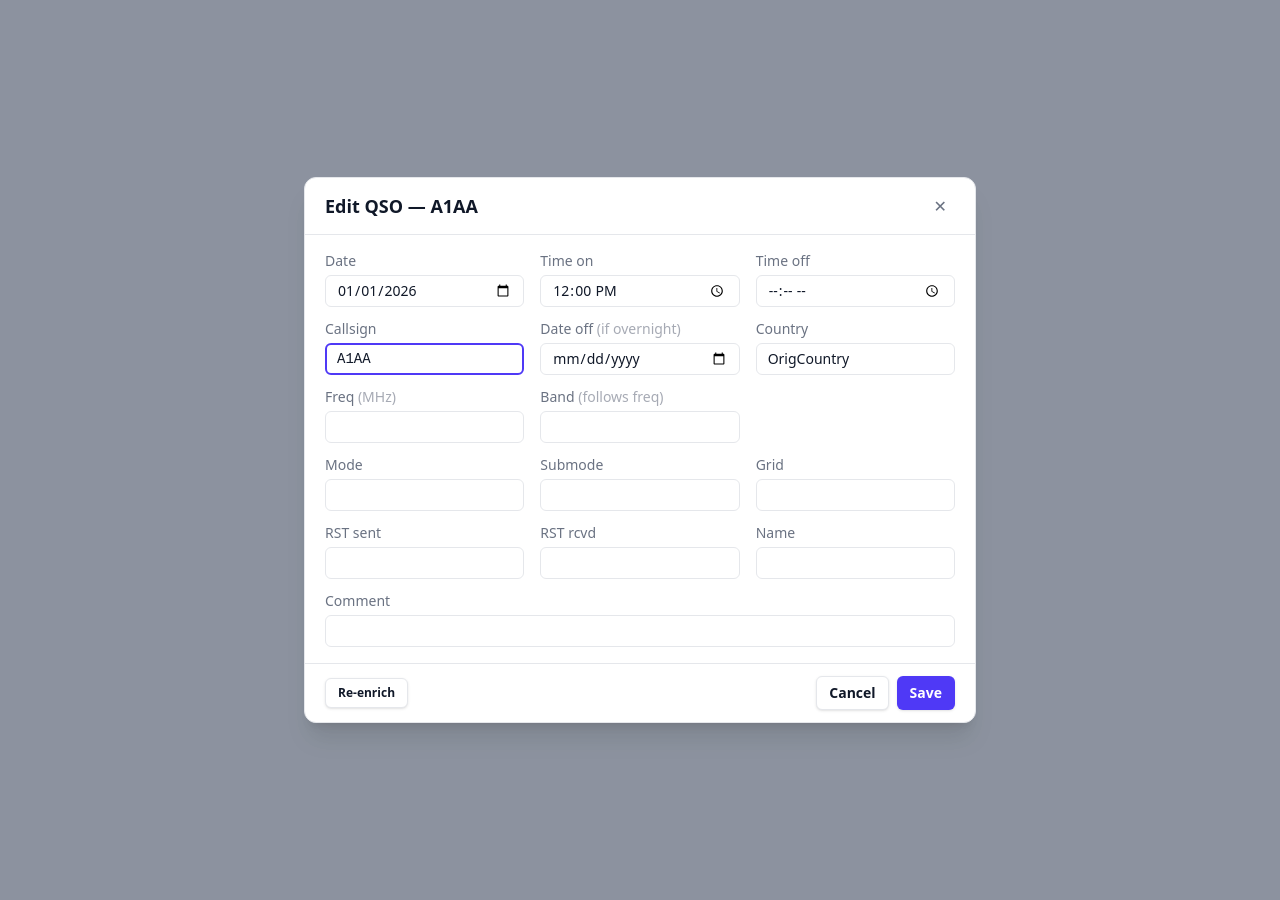
EditQsoModal re-enrichment generation safety (F-02) › retracts a lookup-written value on callsign change, but keeps an operator edit
The width and height of the screenshot is (1280, 900).
Click the button "Re-enrich" at (366,693), box x1=325 y1=678 x2=408 y2=708
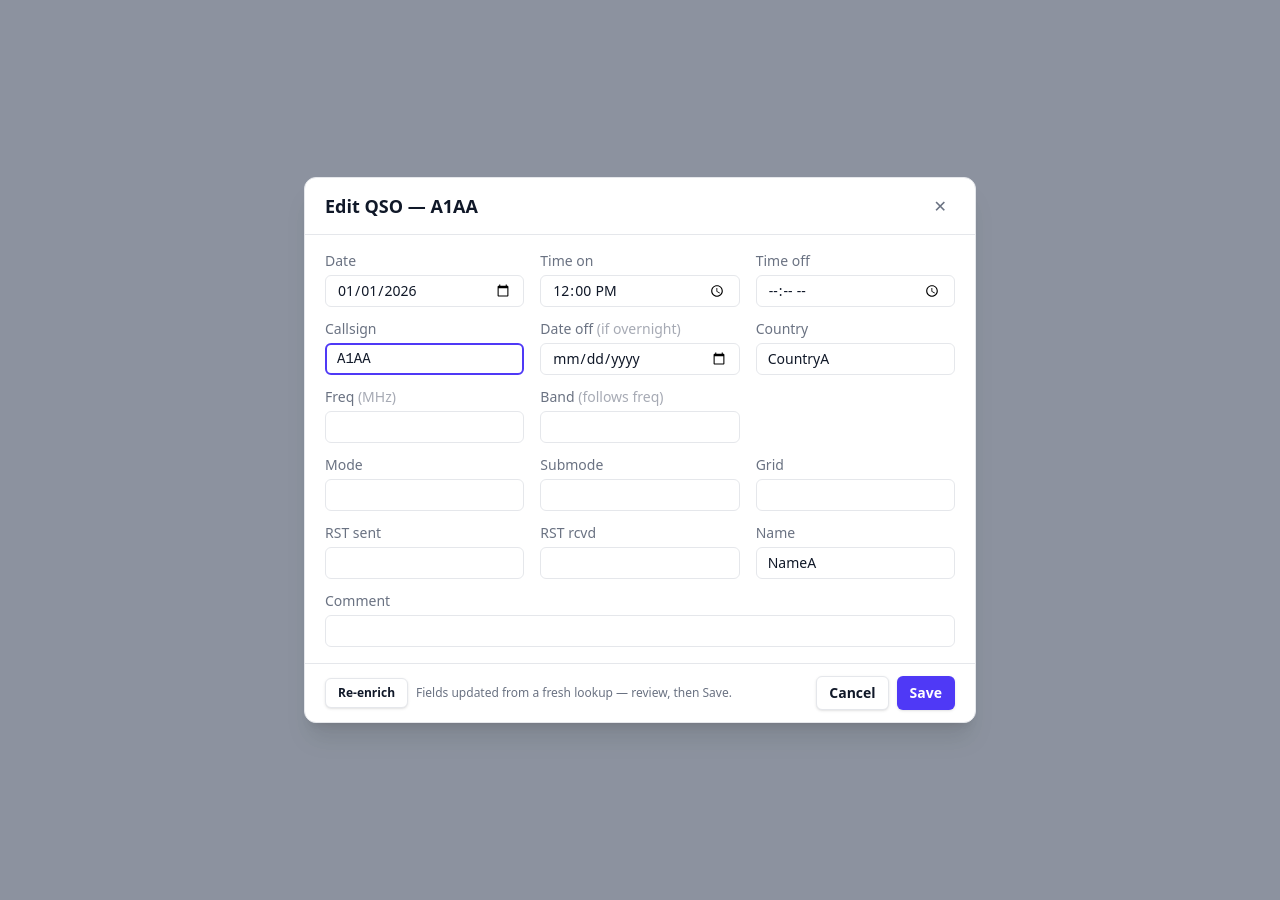
Expected: the field labelled "Country" holds "CountryA", x1=756 y1=343 x2=955 y2=375
Expected: the field labelled "Name" holds "NameA"
Operator edits Name AFTER the lookup wrote it.
Replace the text in the field labelled "Name" with "OperatorName" at (855,563), box x1=756 y1=547 x2=955 y2=579
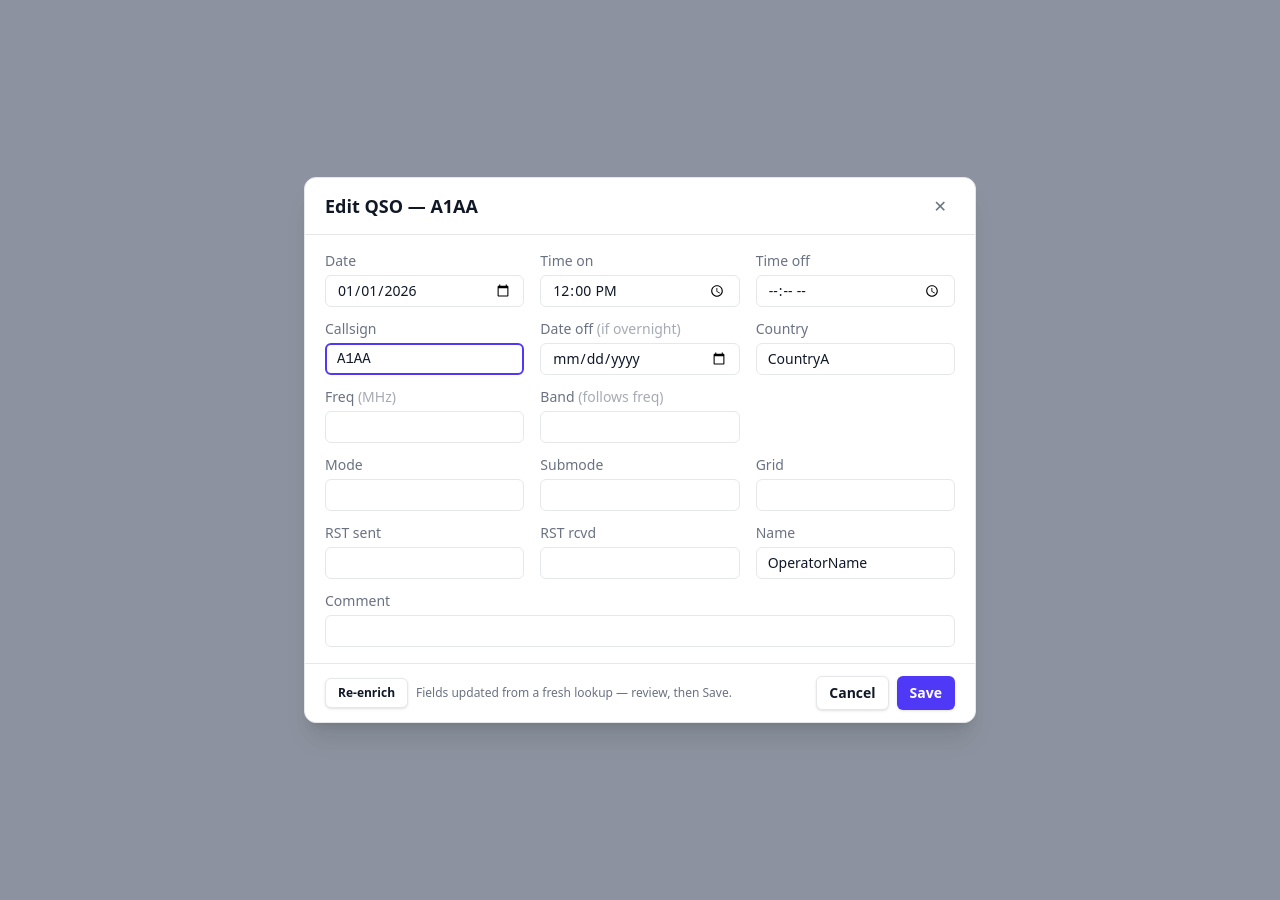
Replace the text in the field labelled "Callsign" with "B2BB" at (425,359), box x1=325 y1=343 x2=524 y2=375
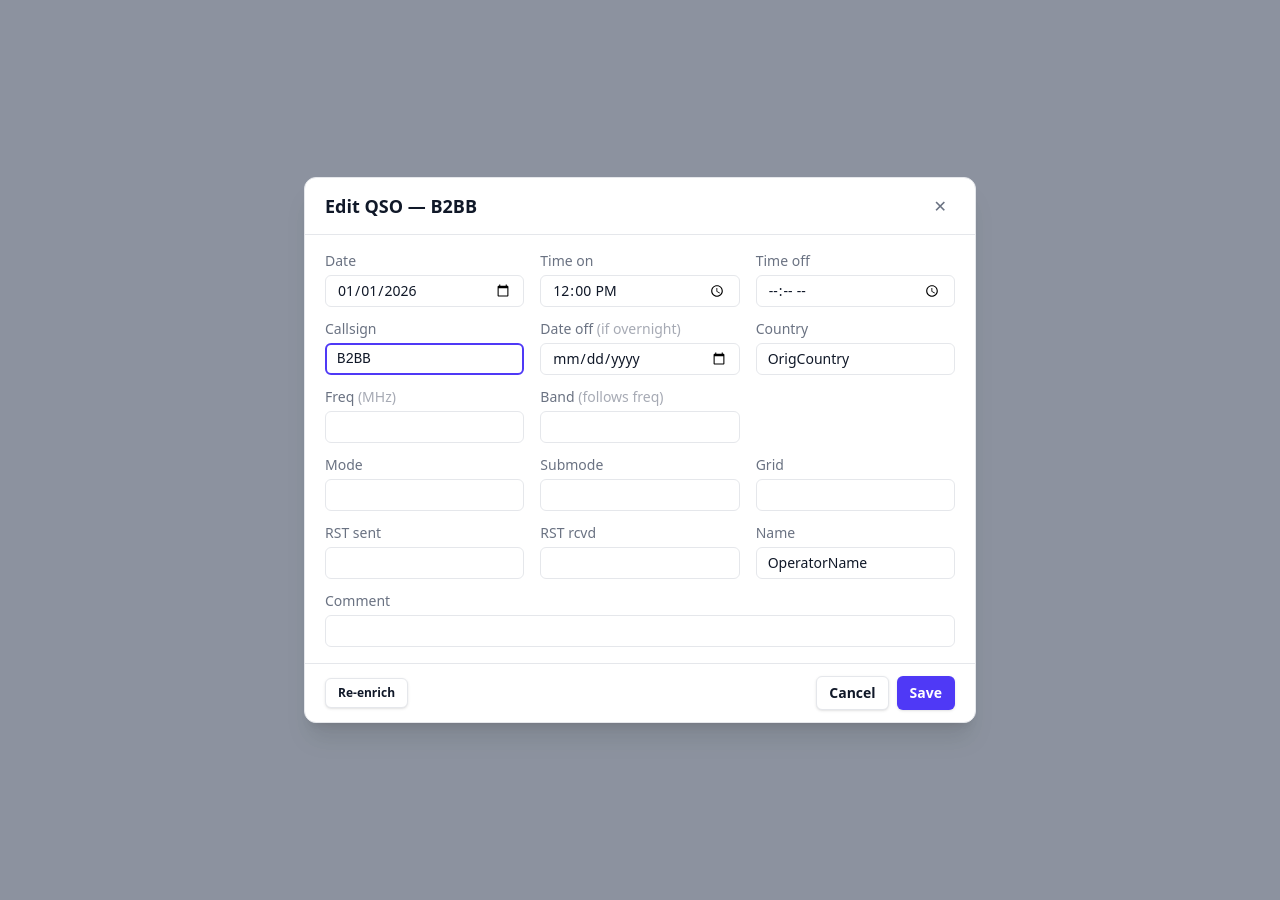
Expected: the field labelled "Country" holds "OrigCountry", x1=756 y1=343 x2=955 y2=375
